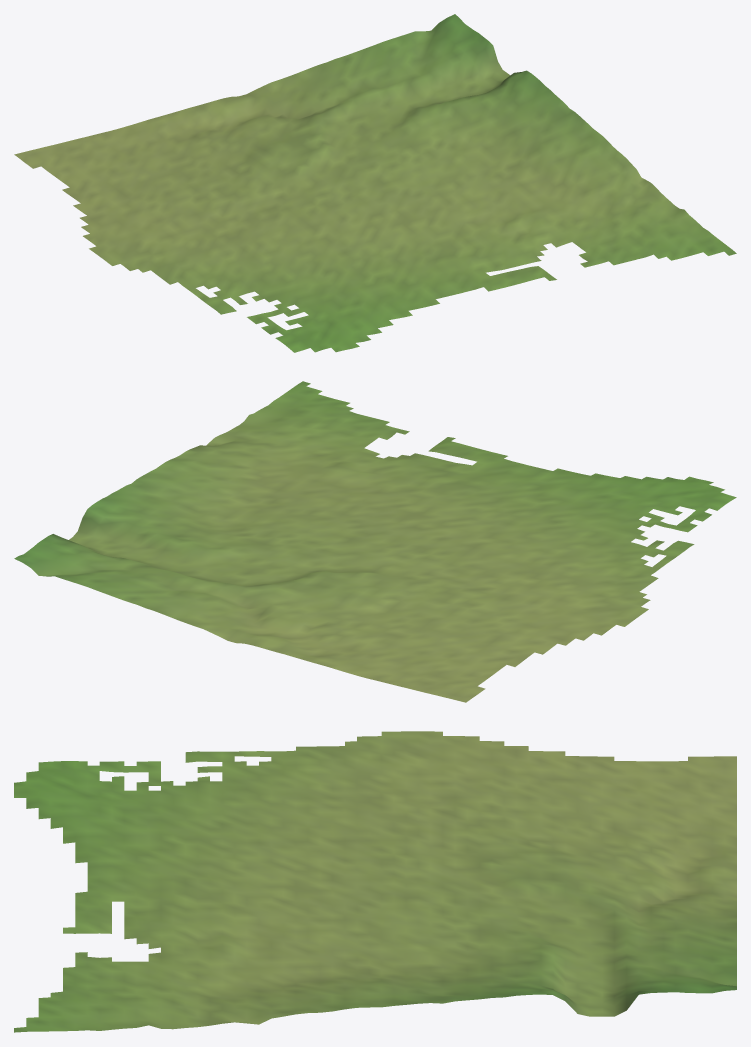
File: lareunion-terrain-12.glb
The picture shows the model from 3 angles, top to bottom: view 1: azimuth 30°, elevation 25°; view 2: azimuth 150°, elevation 25°; view 3: azimuth 270°, elevation 25°; orthographic projection. The views are drawn at different scales.
Parts seen in each view (by area): view 1: LaReunionRgeAltiTerrain_12; view 2: LaReunionRgeAltiTerrain_12; view 3: LaReunionRgeAltiTerrain_12.
Part boxes in pixels (x1=…): LaReunionRgeAltiTerrain_12: x1=14, y1=14, x2=736, y2=352; LaReunionRgeAltiTerrain_12: x1=14, y1=381, x2=736, y2=702; LaReunionRgeAltiTerrain_12: x1=14, y1=731, x2=736, y2=1032.
Bounding box in the file's own units: 20.66 × 1.44 × 20.96.
